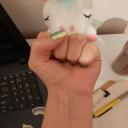Fist: (28, 28, 105, 94)
